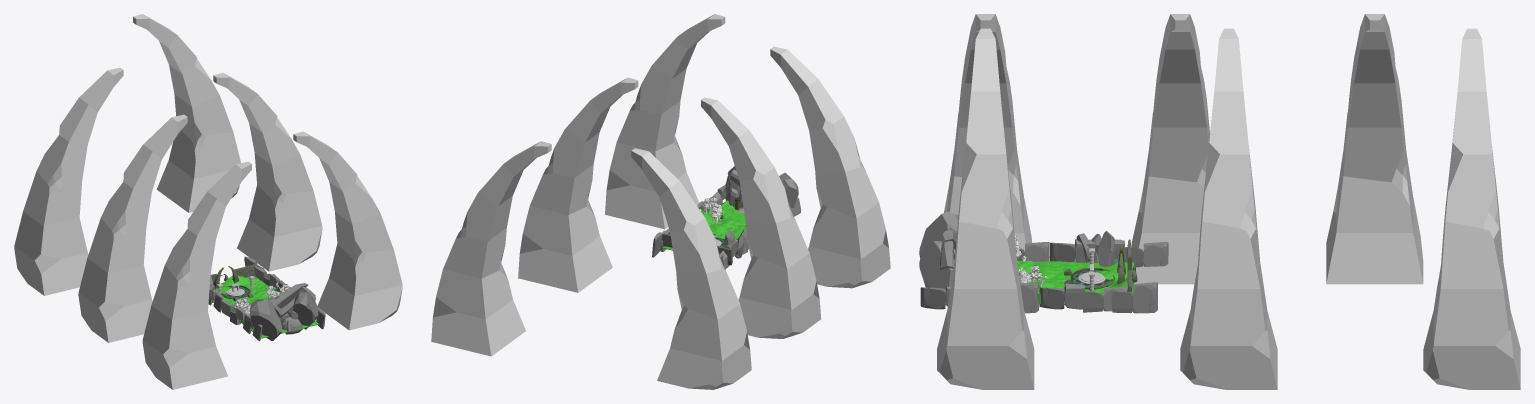
The model's file is MAP1 (1)Bueno.fbx.
3 views of the same model, side by side, from view 1: azimuth 30°, elevation 25°; view 2: azimuth 150°, elevation 25°; view 3: azimuth 270°, elevation 25° (orthographic). The views are drawn at different scales.
Parts seen in each view (by area): view 1: Cube.028, Cube.029, Icosphere.036, Cube.040, Plane.001, Icosphere.035, Cube.034, Icosphere.037; view 2: Cube.028, Cube.029, Plane, Cube.034; view 3: Cube.029, Cube.028, Cube.034, Cube.040, Plane.001, Icosphere.035, Icosphere.036, Icosphere.045.
Boxes of the visible parts, x1,y1,x2,y2 form: Cube.028: (14,67,251,389); Cube.029: (133,14,402,330); Icosphere.036: (249,299,282,340); Cube.040: (208,289,262,341); Plane.001: (213,275,281,309); Icosphere.035: (292,292,318,329); Cube.034: (244,256,325,329); Icosphere.037: (274,283,308,308); Cube.028: (631,46,890,389); Cube.029: (431,14,725,356); Plane: (701,200,746,230); Cube.034: (652,184,725,257); Cube.029: (937,28,1520,389); Cube.028: (944,14,1423,284); Cube.034: (920,282,1157,313); Cube.040: (1017,239,1168,267); Plane.001: (1030,261,1134,304); Icosphere.035: (919,241,955,292); Icosphere.036: (919,211,958,257); Icosphere.045: (1097,230,1114,266).
Size of the model in its own units: 40587 by 34599 by 59482.
